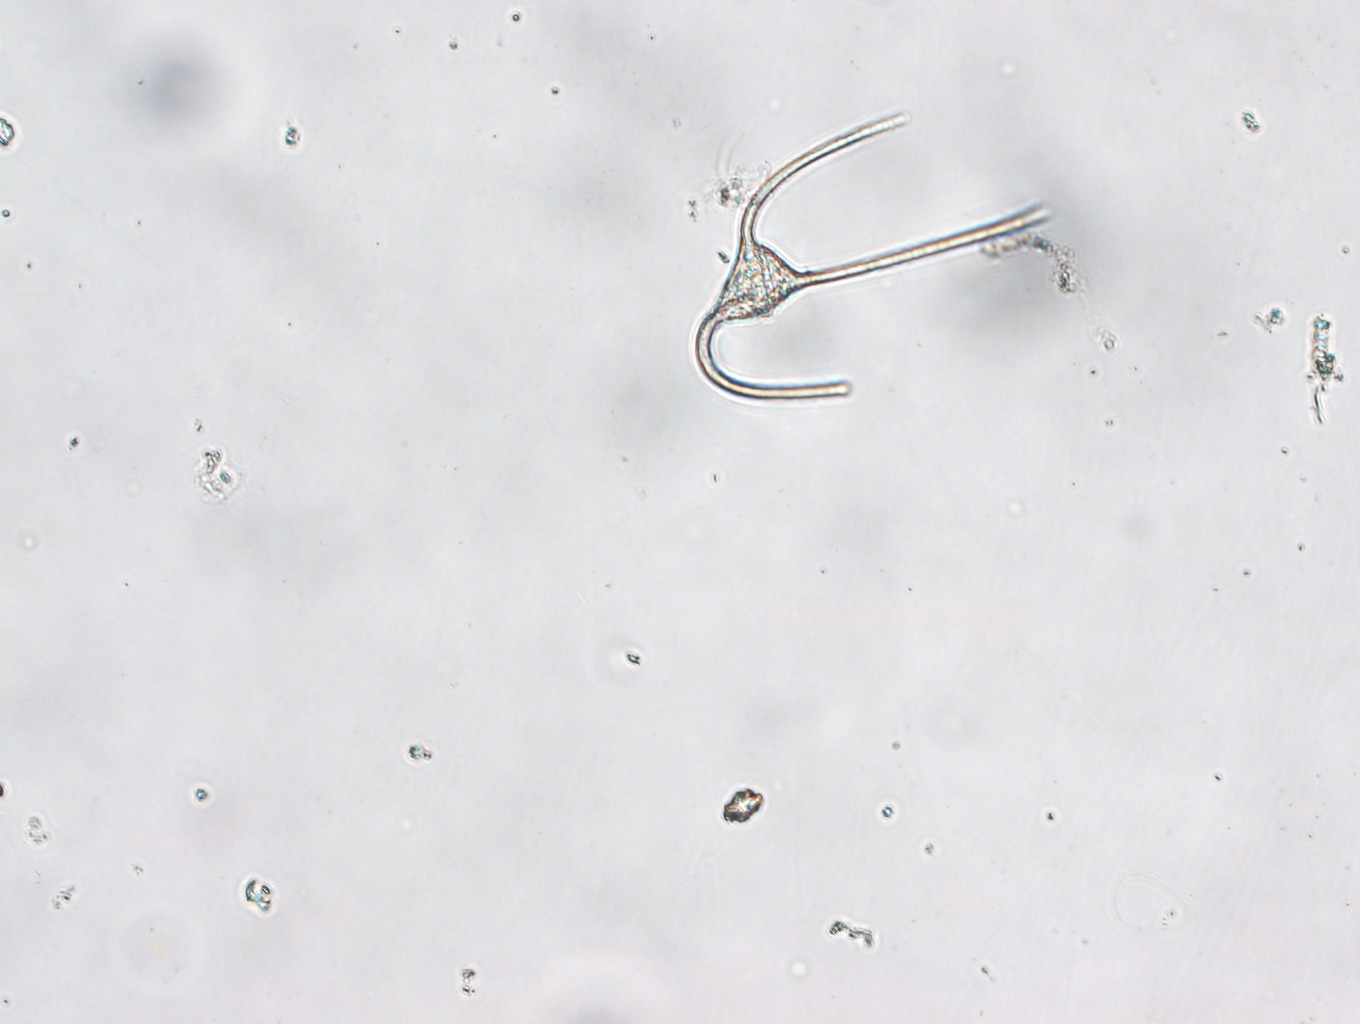ceratium trichoceros: (695, 112, 1054, 401)
